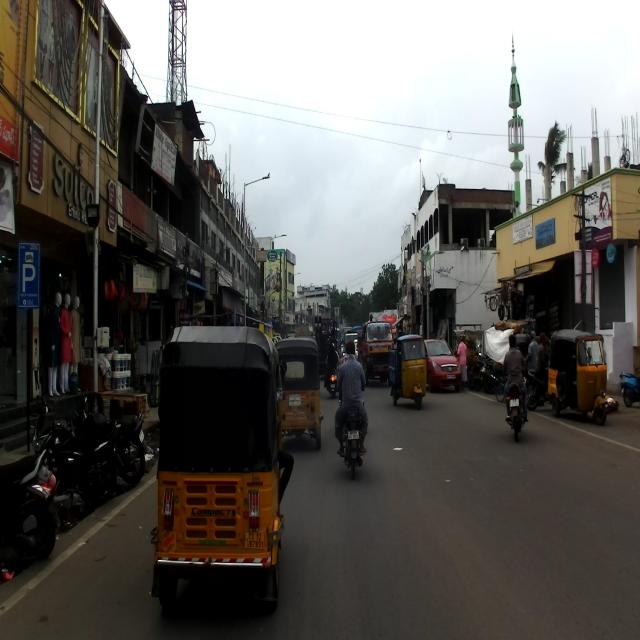autorickshaw: (150, 323, 296, 616), (547, 330, 608, 426), (274, 334, 323, 452)
motorcycle_Hero: (75, 386, 151, 485)
motorcycle_Honda: (32, 390, 119, 503)
motorcycle_TVS: (334, 378, 366, 478)
scooter: (0, 448, 60, 571)
